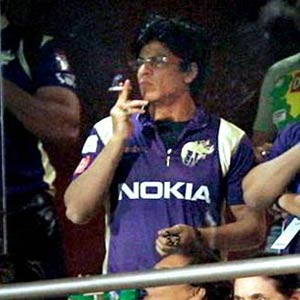cigarette: (105, 82, 131, 92)
not_cigarette: (5, 249, 300, 297)
